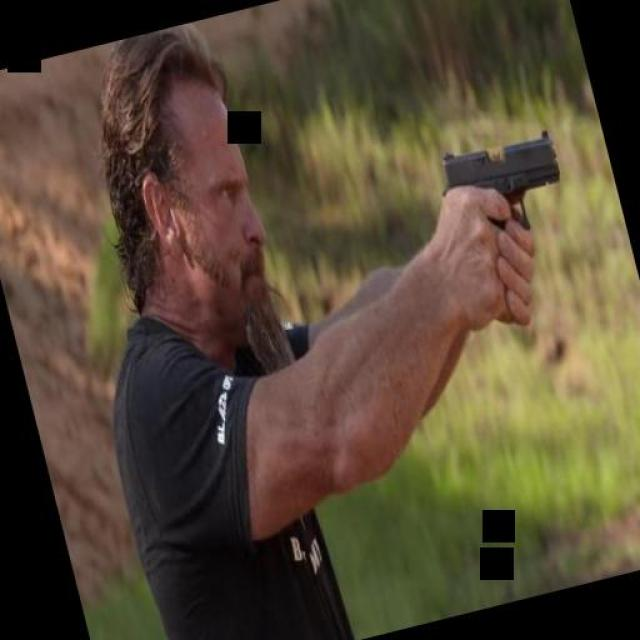gun: (426, 119, 595, 332)
